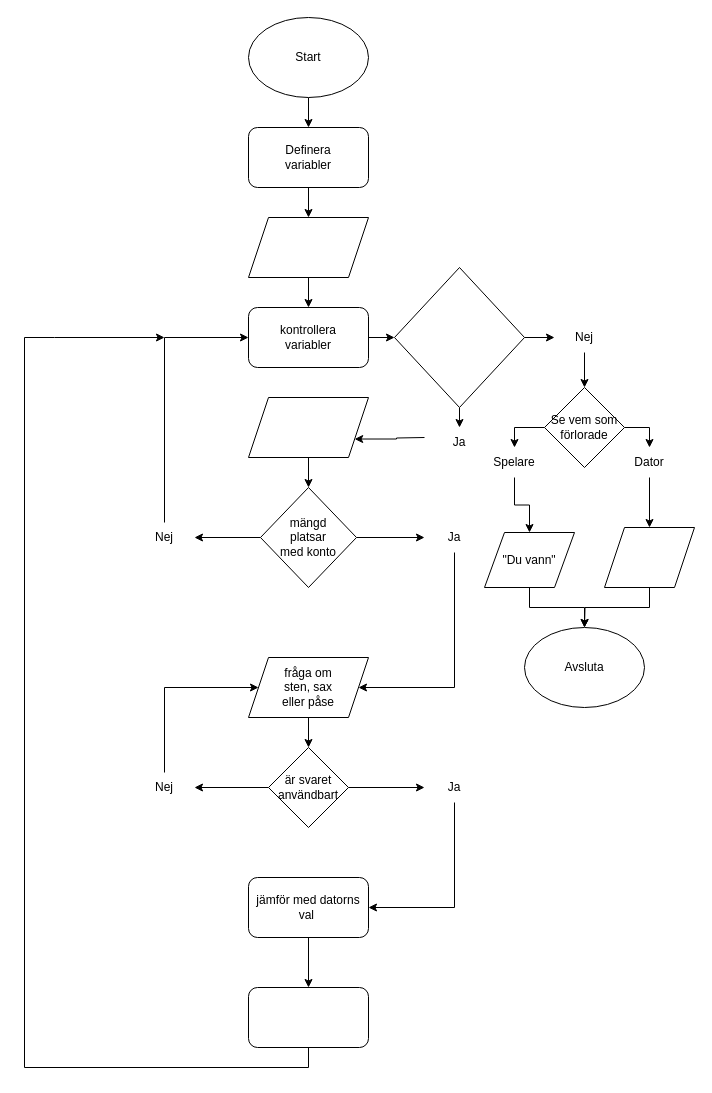
This 712x1093 diagram has some shape labels left out. Each missing label, with the centre of its shape:
"huset vann": the point at 649,557
Be om mängd satsad: the point at 308,427
fråga om namn: the point at 308,247
om spelare och dator har pengar kvar: the point at 459,337
Visa resultat och hur mycket pengar finns kvar: the point at 308,1017
